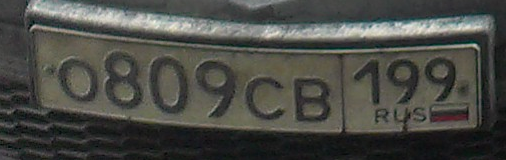character: (191, 55, 240, 122), (101, 43, 147, 114), (146, 51, 192, 119), (289, 68, 336, 127), (239, 68, 289, 123), (54, 52, 99, 107), (352, 57, 387, 110), (424, 55, 460, 104), (386, 57, 422, 104)
